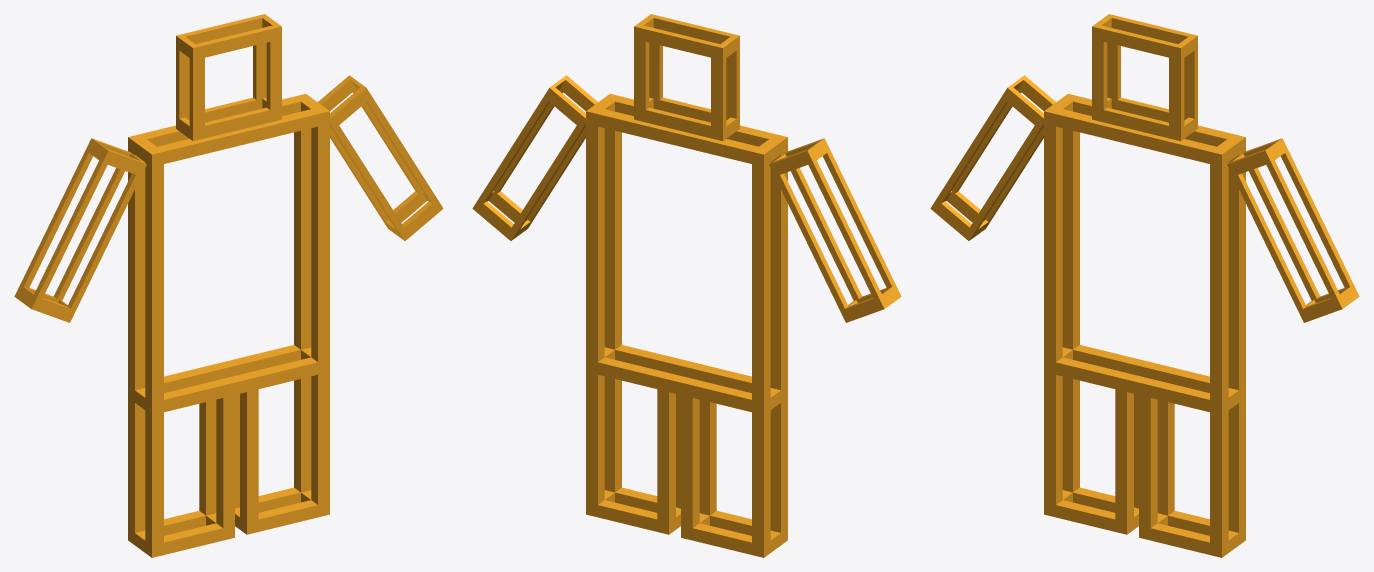
The model's file is ConfusionA.fbx.
The picture shows the model from 3 angles, left to right: view 1: azimuth 30°, elevation 25°; view 2: azimuth 150°, elevation 25°; view 3: azimuth 330°, elevation 25°; orthographic projection.
Visible parts, largest first — view 1: Cube.026; view 2: Cube.026; view 3: Cube.026.
Boxes of the visible parts, <box> form: Cube.026: <box>14,14,443,557</box>; Cube.026: <box>472,14,901,557</box>; Cube.026: <box>930,14,1359,557</box>.
Bounding box in the file's own units: 139 × 160 × 14.
